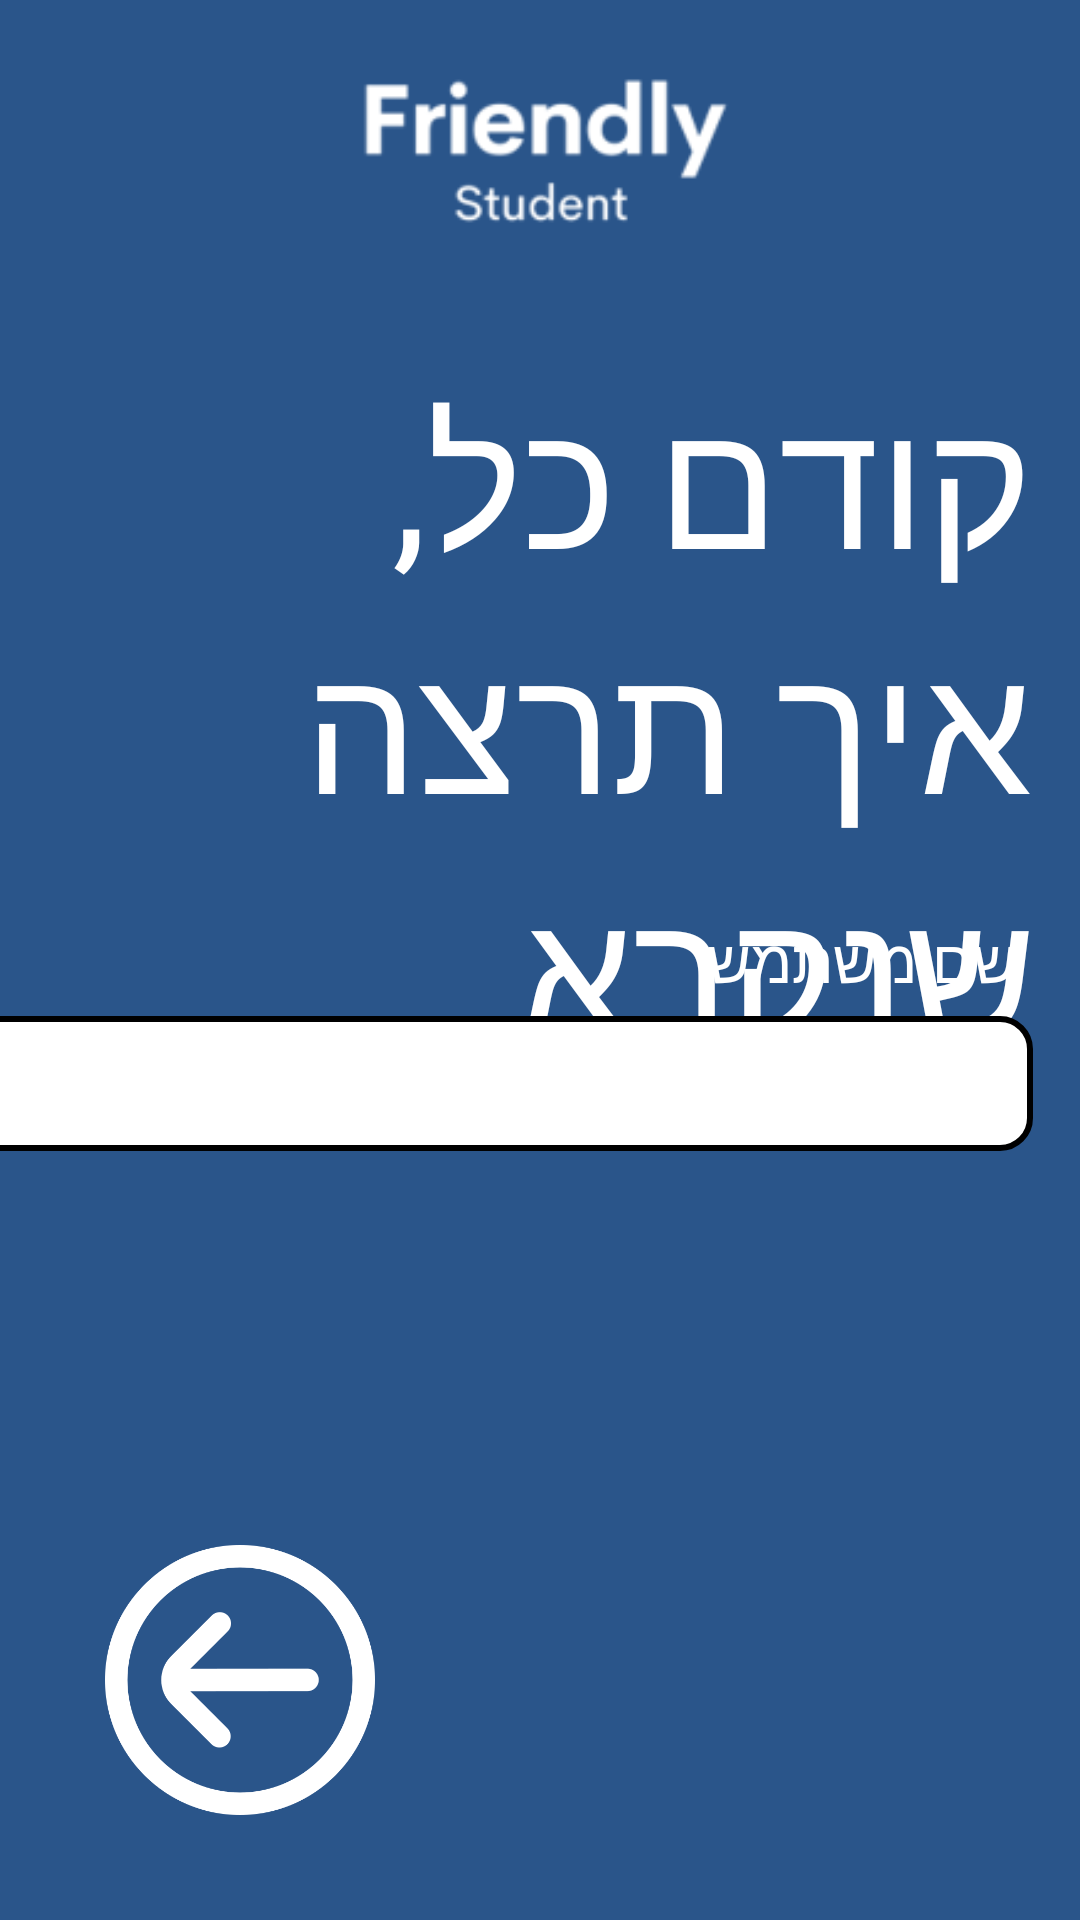

Where icons sit on this 1080px x 1920px app screen, as [x1,y1,x2,y2]:
circulararrow: [105,1545,375,1815]
